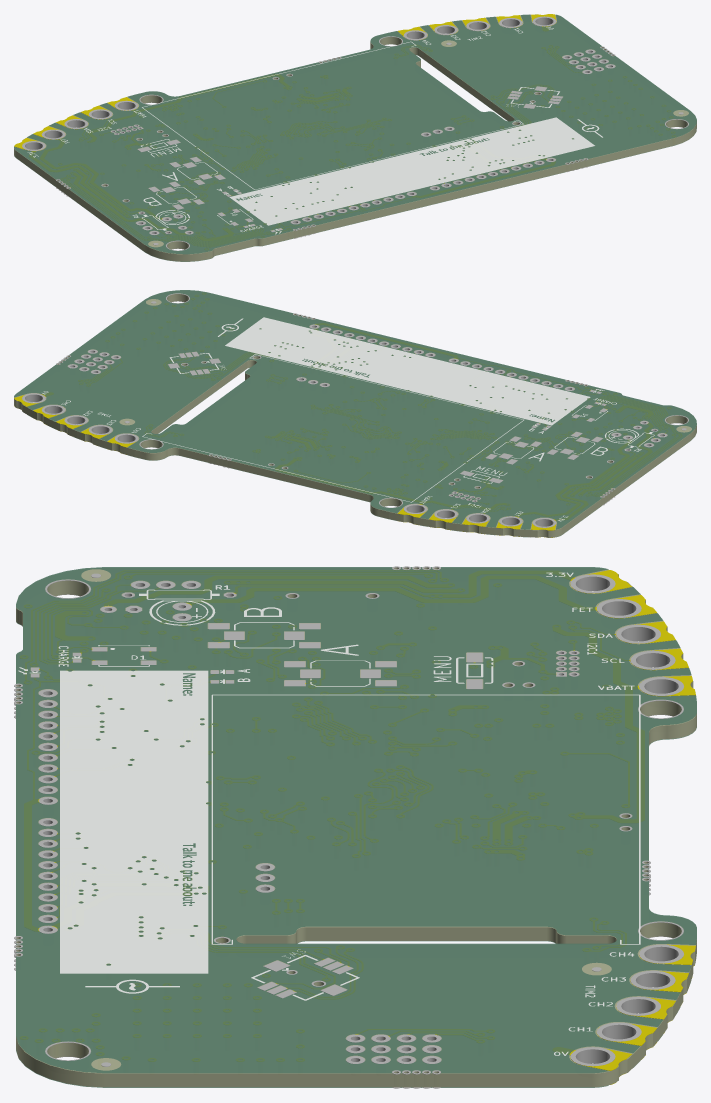
Rendered from tilda-mk3-mk.glb.
The picture shows the model from 3 angles, top to bottom: view 1: azimuth 30°, elevation 25°; view 2: azimuth 150°, elevation 25°; view 3: azimuth 270°, elevation 25°; orthographic projection. The views are drawn at different scales.
Visible parts, largest first — view 1: =>[0:1:1:7], =>[0:1:1:9], =>[0:1:1:5], =>[0:1:1:2]; view 2: =>[0:1:1:7], =>[0:1:1:9], =>[0:1:1:5], =>[0:1:1:2]; view 3: =>[0:1:1:7], =>[0:1:1:9], =>[0:1:1:5], =>[0:1:1:2].
Part boxes in pixels (x1,y1,x2,y2): =>[0:1:1:7]: [14, 14, 696, 261]; =>[0:1:1:9]: [14, 14, 696, 261]; =>[0:1:1:5]: [27, 26, 602, 234]; =>[0:1:1:2]: [14, 14, 688, 250]; =>[0:1:1:7]: [14, 290, 696, 537]; =>[0:1:1:9]: [14, 291, 696, 537]; =>[0:1:1:5]: [42, 317, 654, 521]; =>[0:1:1:2]: [14, 293, 688, 537]; =>[0:1:1:7]: [16, 567, 696, 1087]; =>[0:1:1:9]: [16, 567, 696, 1087]; =>[0:1:1:5]: [18, 572, 640, 1055]; =>[0:1:1:2]: [14, 566, 695, 1088].
Bounding box in the file's own units: 0.12 × 0.00166 × 0.0682.
Materials: 4 (4 with a texture image).
